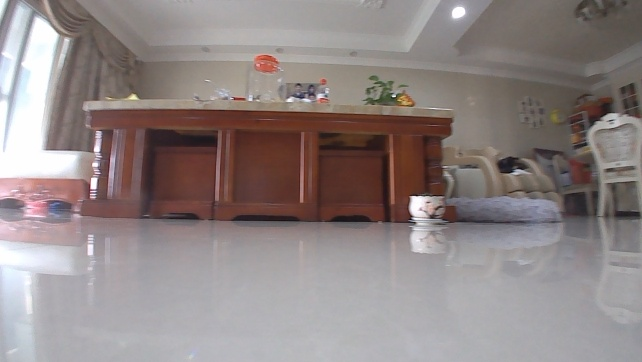blanket: (447, 194, 564, 225)
dining_table: (550, 109, 641, 220)
sofa: (442, 143, 566, 218)
tea_table: (74, 95, 459, 226)
